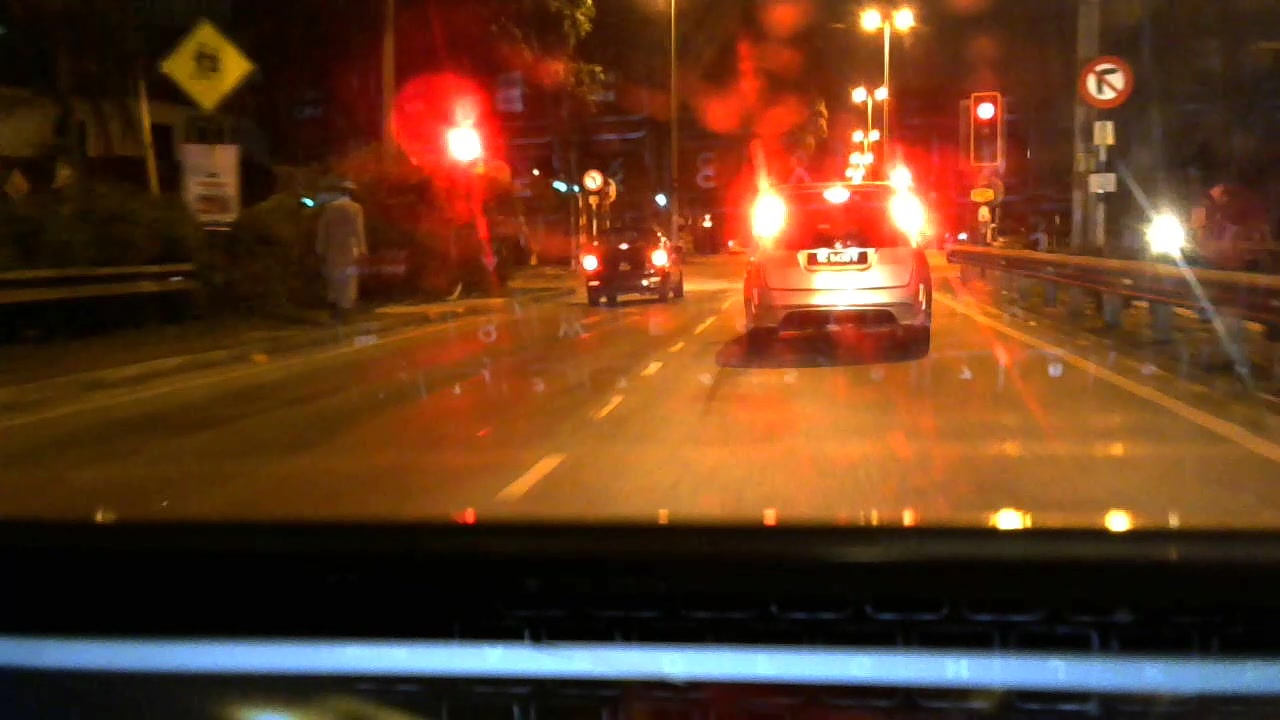Car: (741, 156, 941, 354), (569, 215, 689, 314)
